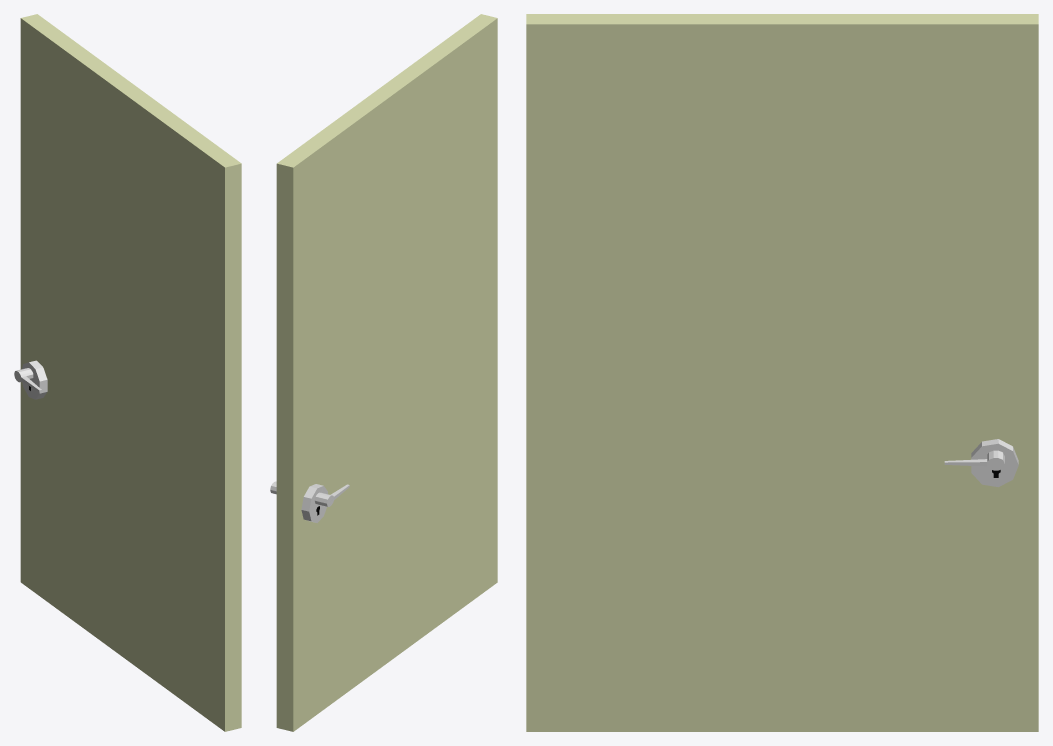
File: doorNor.fbx
3 renders of one model, left to right at view 1: azimuth 30°, elevation 25°; view 2: azimuth 150°, elevation 25°; view 3: azimuth 270°, elevation 25°, orthographic. The views are drawn at different scales.
Visible parts, largest first — view 1: Cylinder; view 2: Cylinder; view 3: Cylinder.
Boxes of the visible parts, left/top/right/bottom form: Cylinder: left=14, top=14, right=241, bottom=731; Cylinder: left=270, top=14, right=497, bottom=731; Cylinder: left=526, top=14, right=1038, bottom=731.
Bounding box in the file's own units: 16.83 × 160 × 105.
